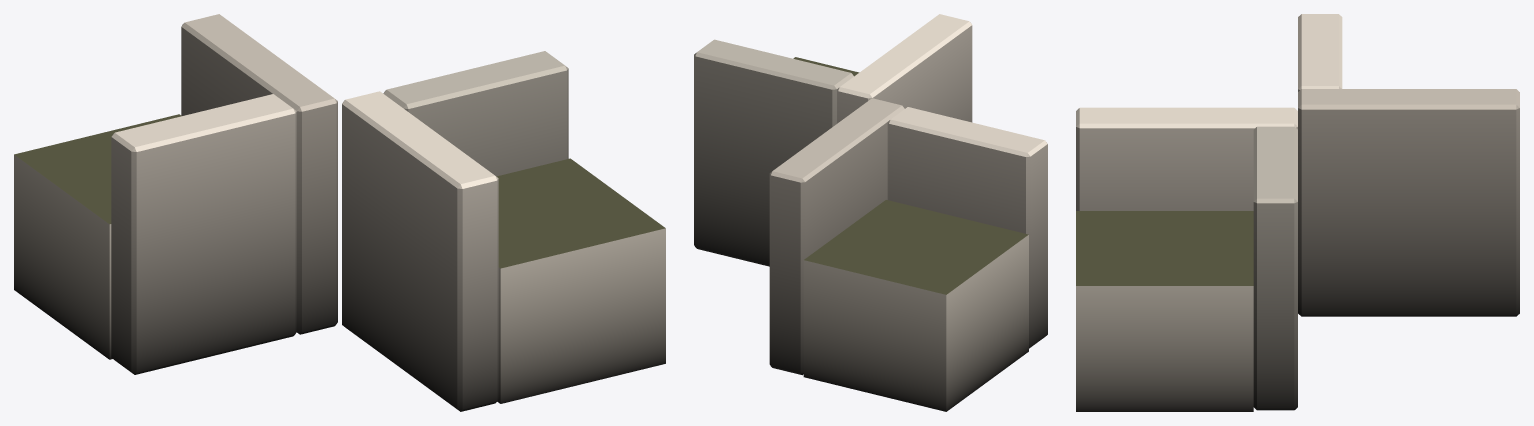
File: SM_VKI_Ground_Sewer_OXOX.fbx
3 renders of one model, left to right at view 1: azimuth 30°, elevation 25°; view 2: azimuth 150°, elevation 25°; view 3: azimuth 270°, elevation 25°, orthographic. The views are drawn at different scales.
Visible parts, largest first — view 1: SM_VKI_Ground_Sewer_OXOX.001; view 2: SM_VKI_Ground_Sewer_OXOX.001; view 3: SM_VKI_Ground_Sewer_OXOX.001.
Boxes of the visible parts, x1,y1,x2,y2 form: SM_VKI_Ground_Sewer_OXOX.001: [14, 14, 665, 411]; SM_VKI_Ground_Sewer_OXOX.001: [694, 14, 1047, 411]; SM_VKI_Ground_Sewer_OXOX.001: [1076, 14, 1519, 411].
Size of the model in its own units: 1.5 by 0.79 by 1.5.
